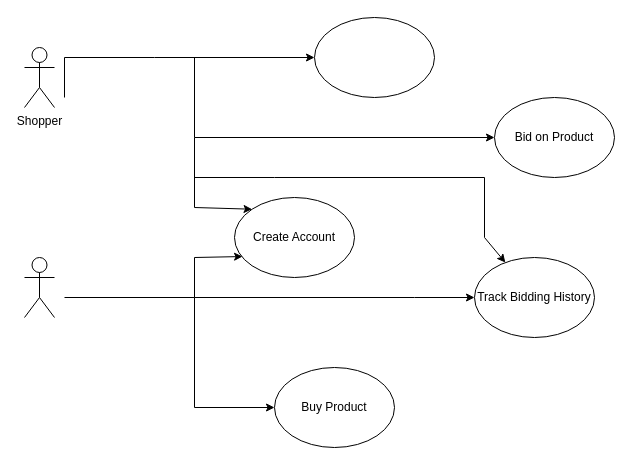
The diagram is 632 pixels wide and 465 high, and some of its shapes have lost their labels. Here are the shapes that lost their labels. From the top down, the centre of each, then its label:
point (374, 57): Search Product
point (39, 287): Seller
